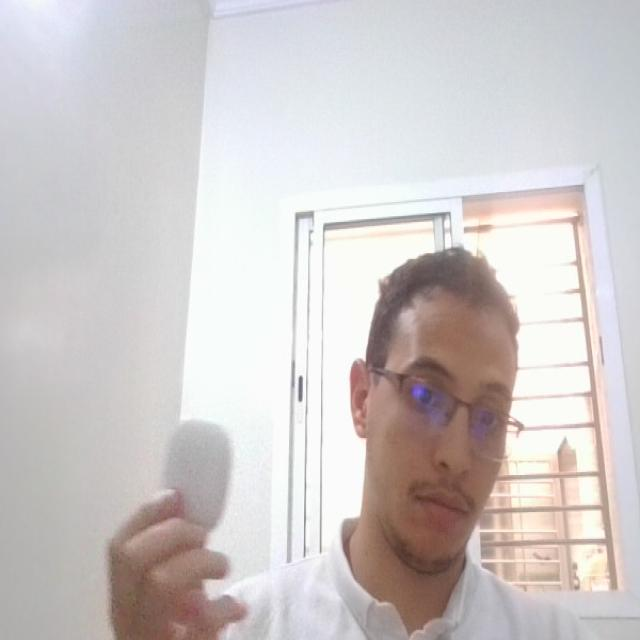airpods: (164, 412, 238, 542)
